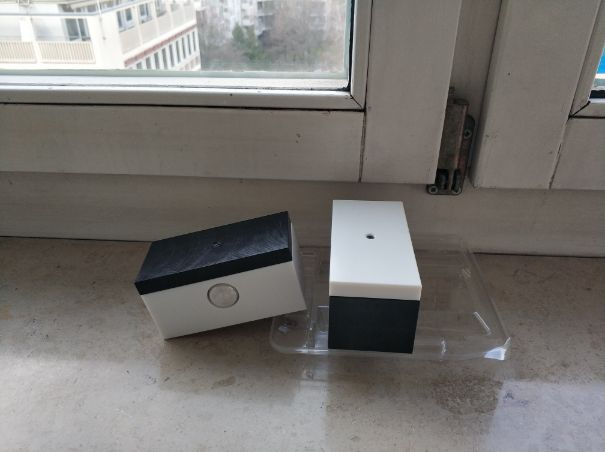black+white+silver: (133, 208, 313, 345)
